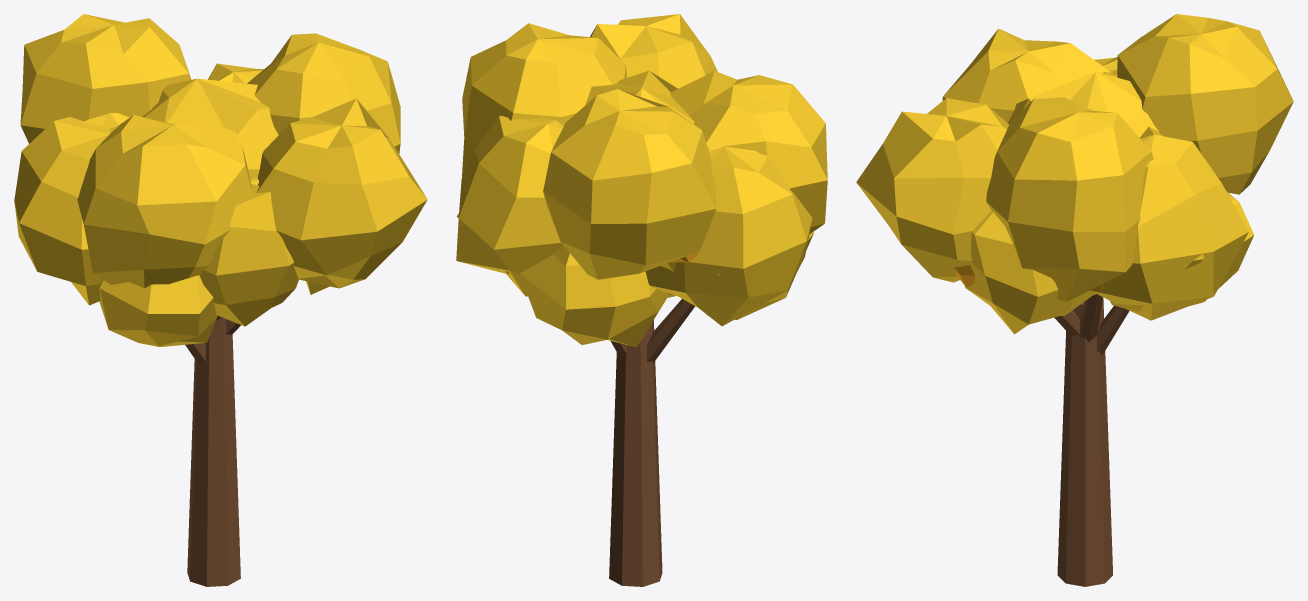
The model's file is ipe_bloom.obj.
3 renders of one model, left to right at view 1: azimuth 30°, elevation 25°; view 2: azimuth 150°, elevation 25°; view 3: azimuth 270°, elevation 25°, orthographic.
Parts seen in each view (by area): view 1: crown, trunk; view 2: crown, trunk; view 3: crown, trunk.
Boxes of the visible parts, <box> form: crown: <box>14,14,427,346</box>; trunk: <box>185,316,240,586</box>; crown: <box>456,14,827,347</box>; trunk: <box>609,299,695,586</box>; crown: <box>856,14,1293,334</box>; trunk: <box>1054,294,1129,586</box>.
Size of the model in its own units: 3.03 by 4.17 by 3.14.
